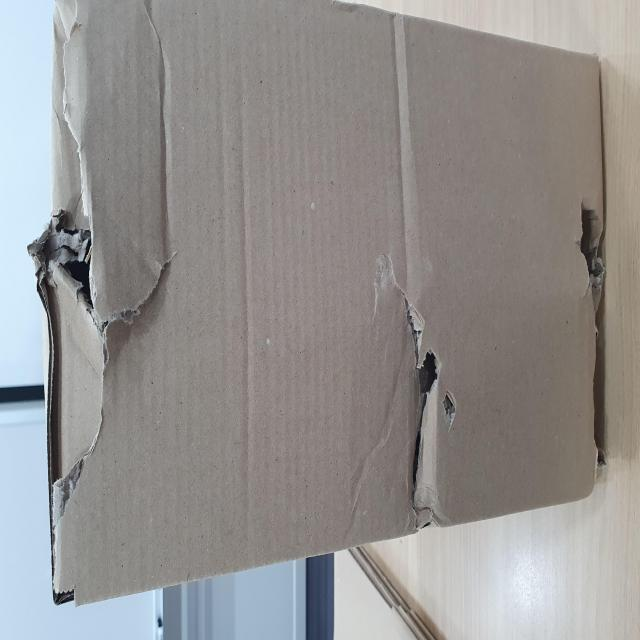damaged: (93, 85, 246, 169)
